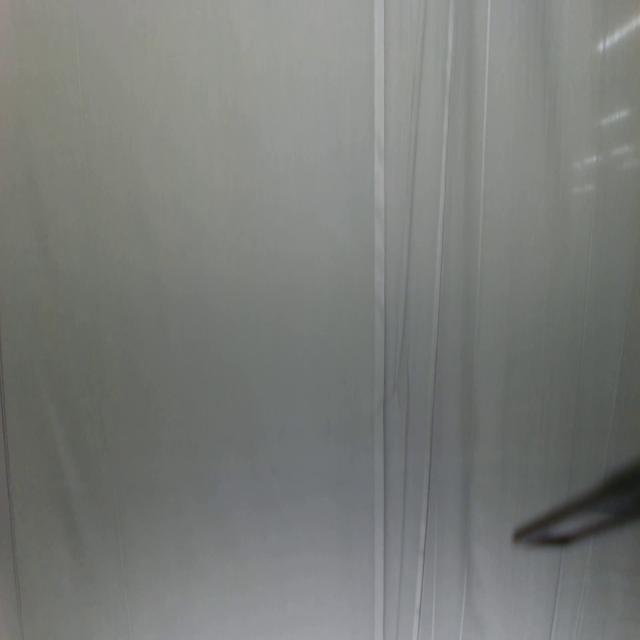crease: (369, 1, 457, 640), (0, 335, 26, 640), (474, 1, 494, 281), (572, 541, 598, 640), (545, 548, 566, 640)
